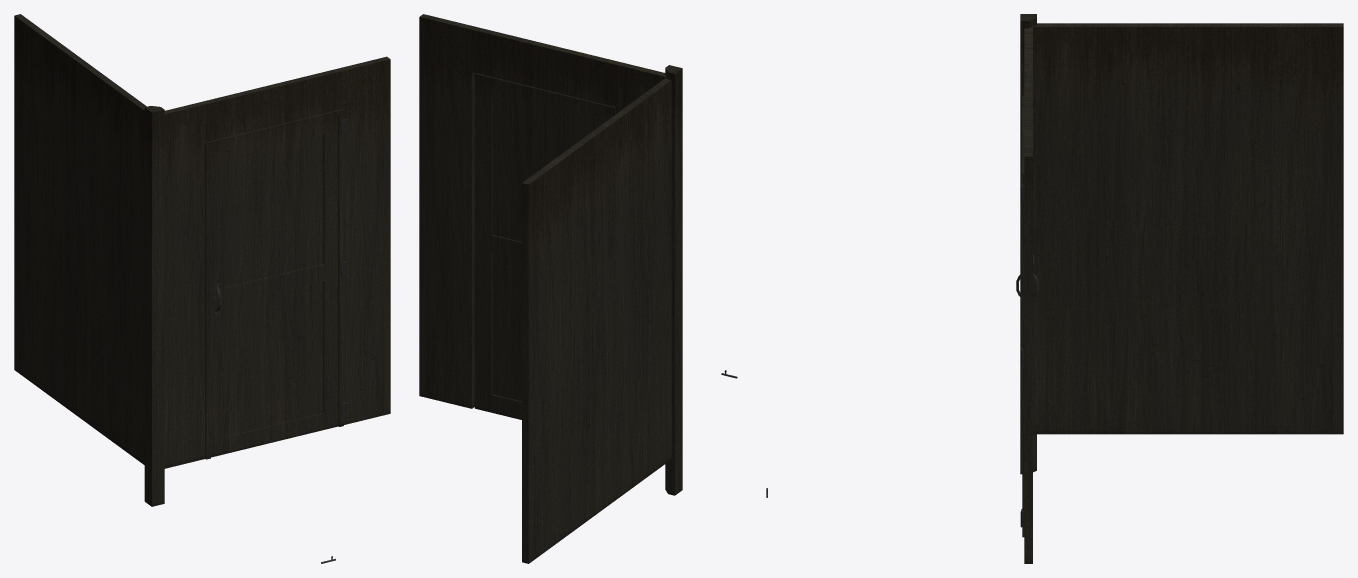
The model's file is toilet_cabin_mp_1.fbx.
The picture shows the model from 3 angles, left to right: view 1: azimuth 30°, elevation 25°; view 2: azimuth 150°, elevation 25°; view 3: azimuth 270°, elevation 25°; orthographic projection. The views are drawn at different scales.
Visible parts, largest first — view 1: toilet_cabin_mp_1, toilet_cabin_mp_1_door; view 2: toilet_cabin_mp_1, toilet_cabin_mp_1_door; view 3: toilet_cabin_mp_1, toilet_cabin_mp_1_door.
Boxes of the visible parts, x1,y1,x2,y2 form: toilet_cabin_mp_1: (14, 14, 390, 506); toilet_cabin_mp_1_door: (205, 109, 346, 459); toilet_cabin_mp_1: (419, 14, 682, 563); toilet_cabin_mp_1_door: (474, 73, 615, 419); toilet_cabin_mp_1: (1020, 14, 1343, 563); toilet_cabin_mp_1_door: (1016, 96, 1038, 537).
Bounding box in the file's own units: 1.52 × 2.38 × 2.75.
4 materials, 4 textured.
